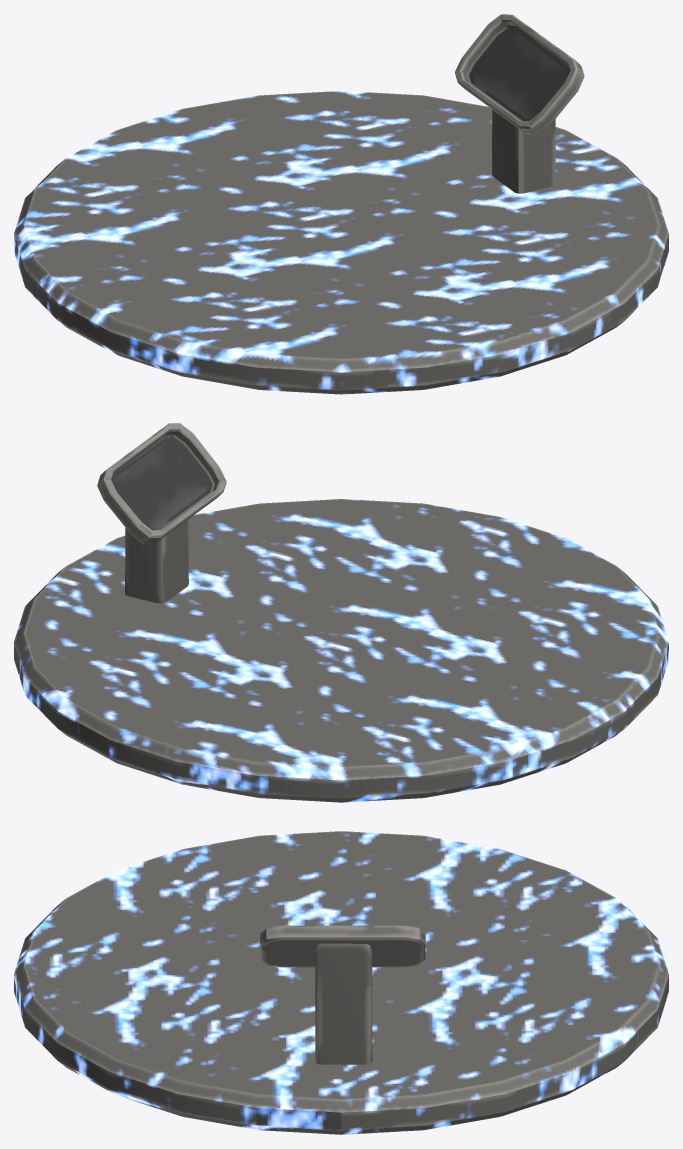
The model's file is Base_Web.glb.
3 views of the same model, one above another, from view 1: azimuth 30°, elevation 25°; view 2: azimuth 150°, elevation 25°; view 3: azimuth 270°, elevation 25° (orthographic).
Parts seen in each view (by area): view 1: Piso; view 2: Piso; view 3: Piso.
Part boxes in pixels (x1,y1,x2,y2): Piso: (14, 14, 668, 394); Piso: (14, 423, 668, 802); Piso: (14, 831, 668, 1134).
Size of the model in its own units: 0.2315 by 0.0675 by 0.2315.
1 material, 1 textured.
